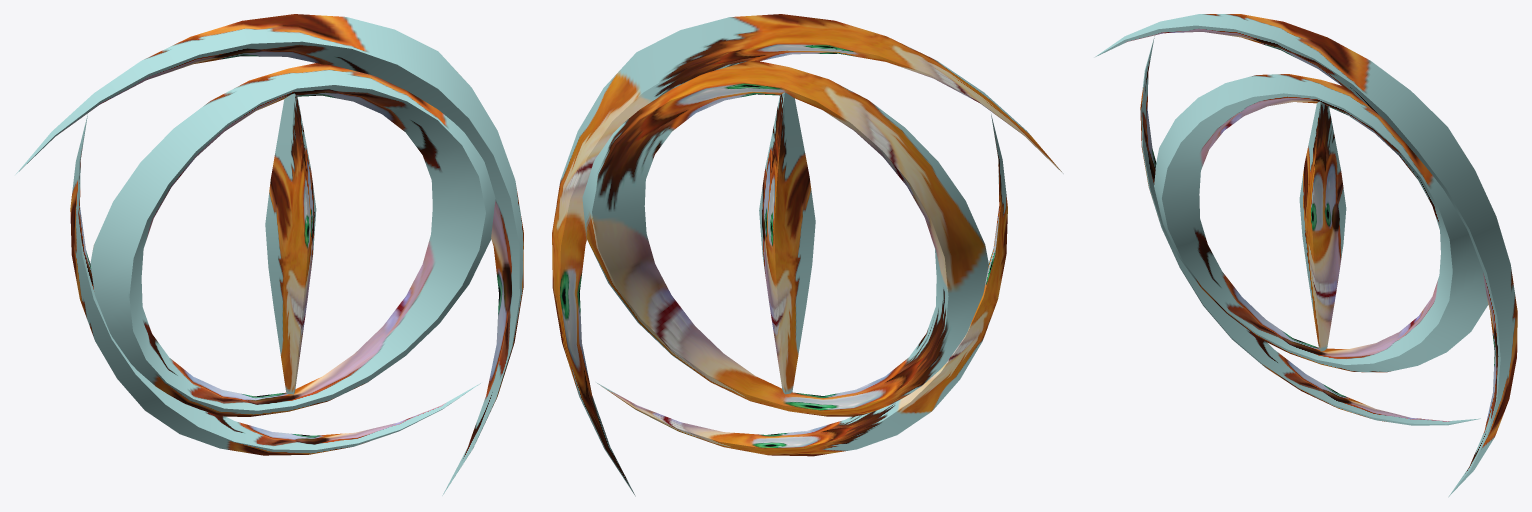
The model's file is copy.ico.obj.
3 renders of one model, left to right at view 1: azimuth 30°, elevation 25°; view 2: azimuth 150°, elevation 25°; view 3: azimuth 330°, elevation 25°, orthographic. The views are drawn at different scales.
Size of the model in its own units: 5 by 4.91 by 0.6577.
